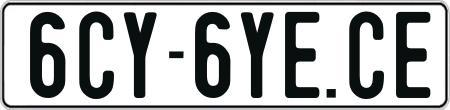6: (194, 10, 231, 101), (30, 9, 67, 97)
C: (77, 12, 117, 99), (346, 9, 381, 102)
E: (396, 11, 431, 103), (284, 10, 318, 97)
Y: (122, 12, 157, 103), (240, 12, 276, 98)
